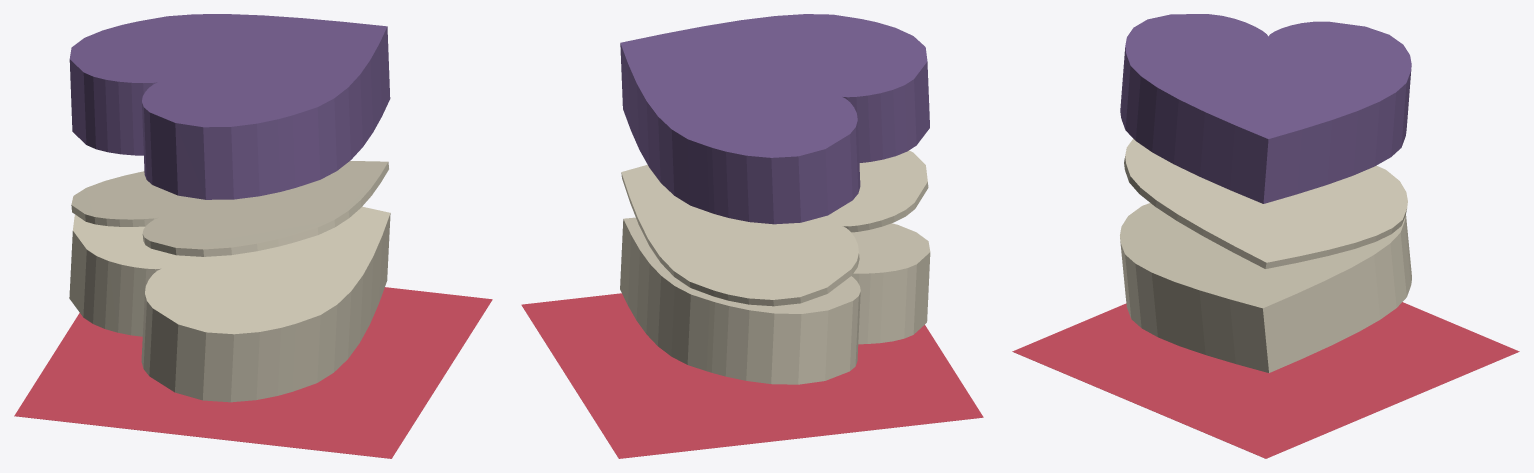
The model's file is VVU.glb.
3 renders of one model, left to right at view 1: azimuth 30°, elevation 25°; view 2: azimuth 150°, elevation 25°; view 3: azimuth 270°, elevation 25°, orthographic. The views are drawn at different scales.
Visible parts, largest first — view 1: Mesh_Mesh_head_geo.001_lambert2SG.001; view 2: Mesh_Mesh_head_geo.001_lambert2SG.001; view 3: Mesh_Mesh_head_geo.001_lambert2SG.001.
Boxes of the visible parts, x1,y1,x2,y2 form: Mesh_Mesh_head_geo.001_lambert2SG.001: (14,14,492,458); Mesh_Mesh_head_geo.001_lambert2SG.001: (521,14,983,458); Mesh_Mesh_head_geo.001_lambert2SG.001: (1012,14,1519,458).
Bounding box in the file's own units: 0.0354 × 0.0217 × 0.0354.
